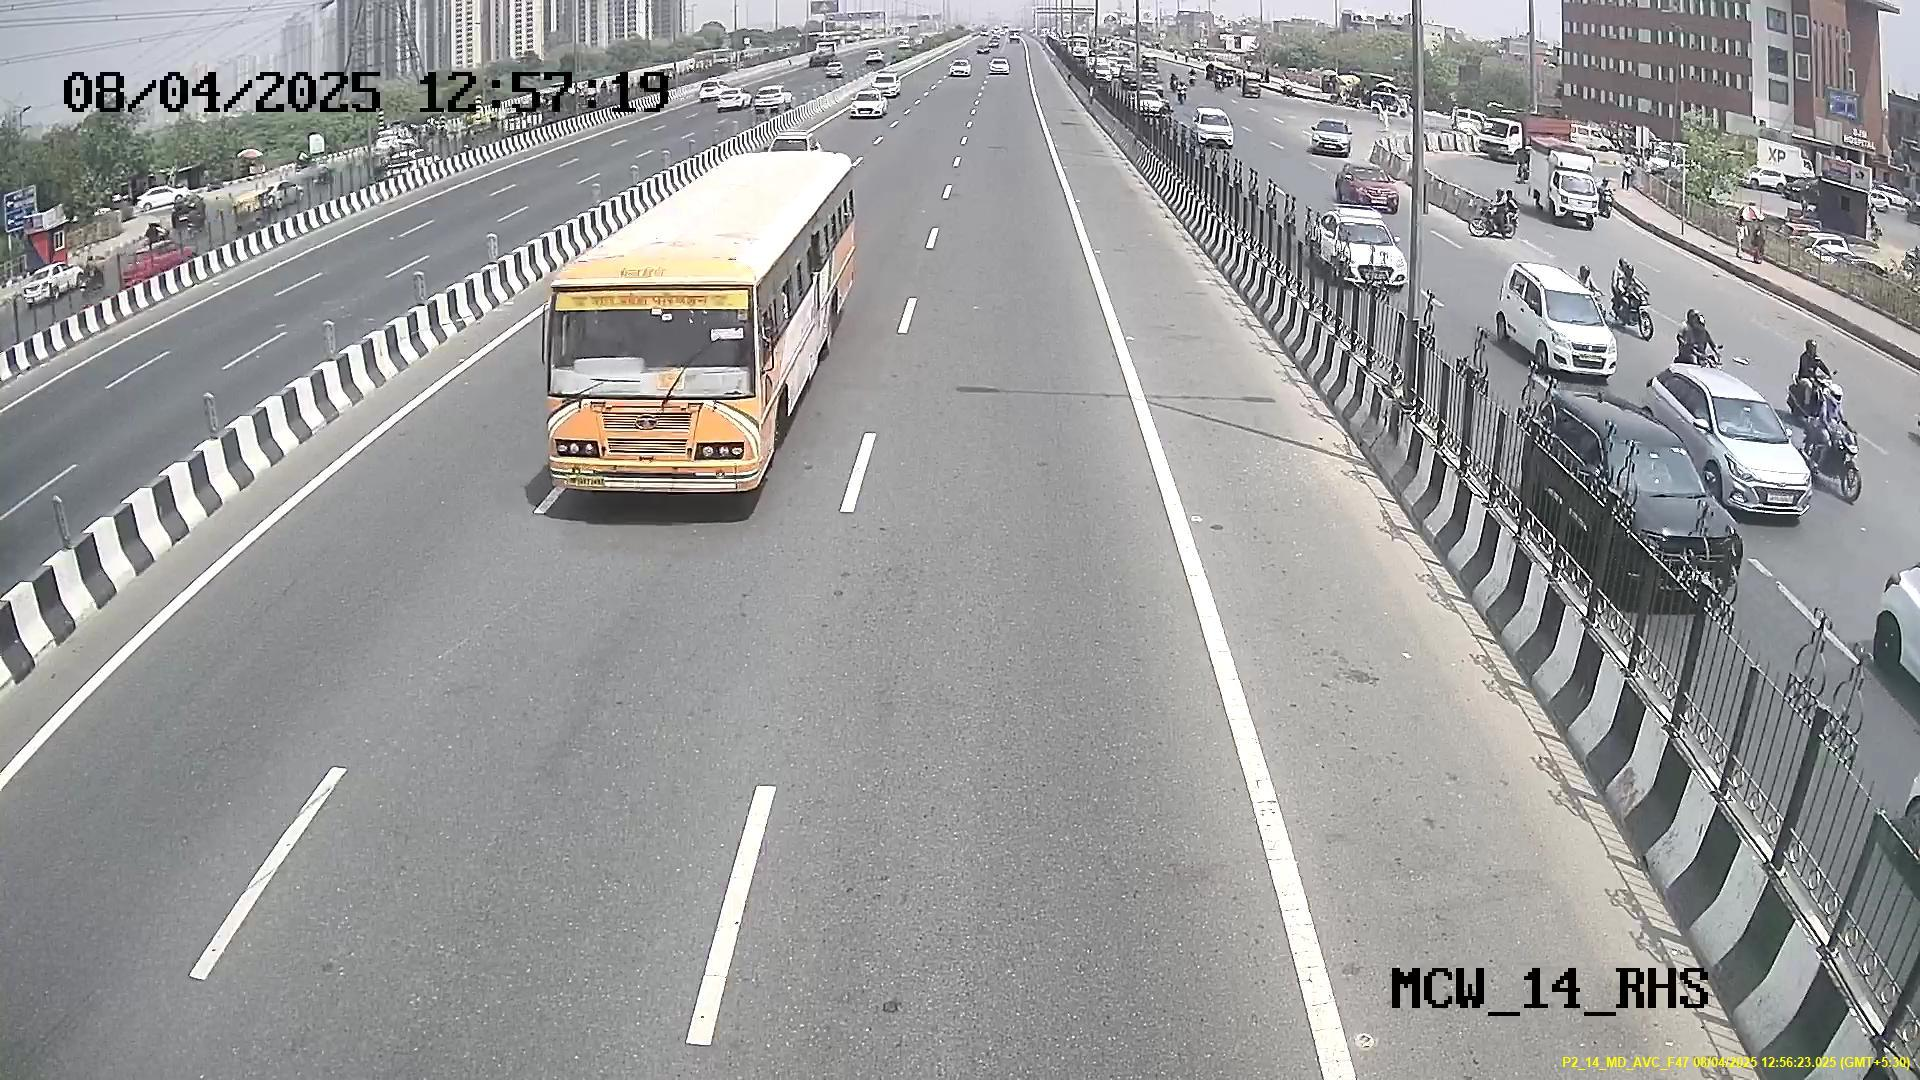bus: (545, 219, 804, 508)
